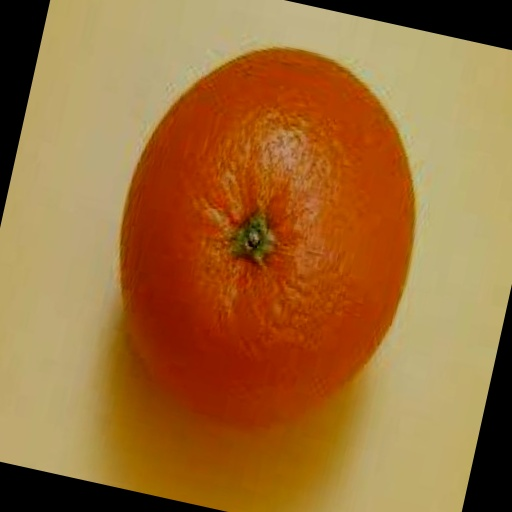fruit: (319, 152, 484, 442)
